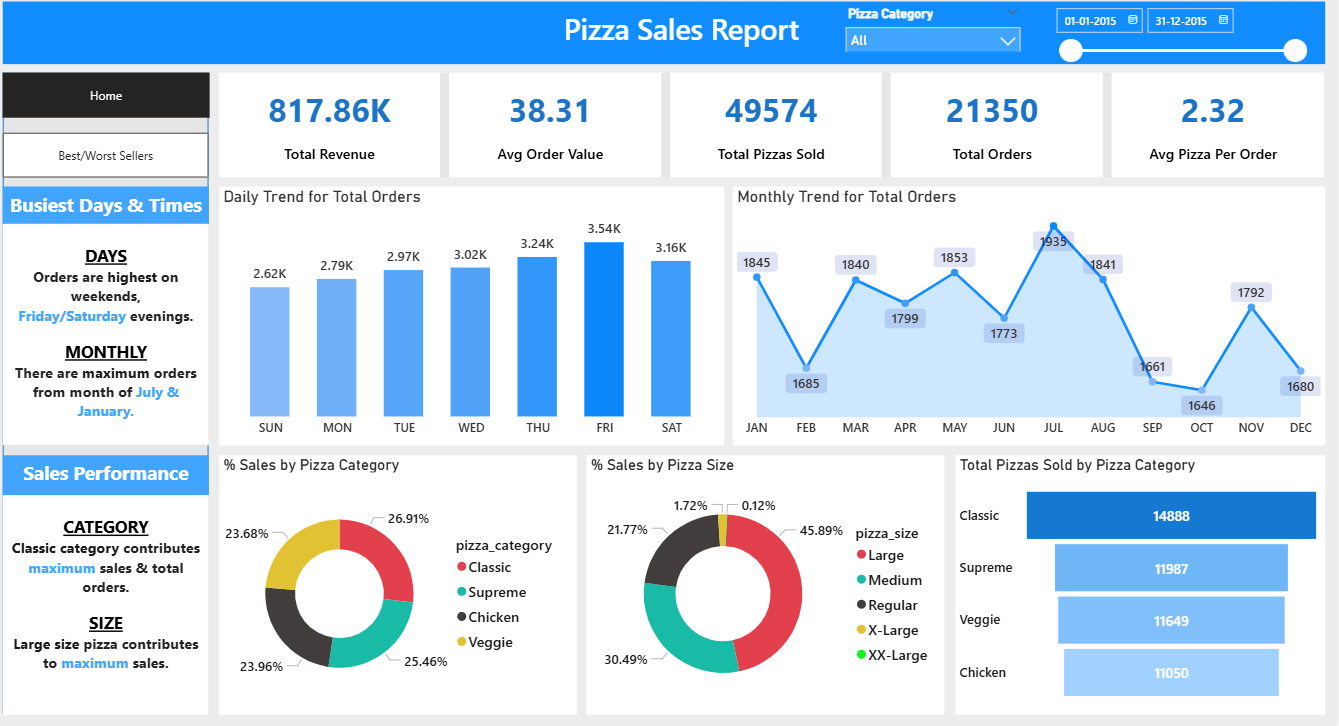

The page's visual inventory and layout, read from the dashboard file:
{"tool":"powerbi","page":{"name":"Home","canvas":[1500,820],"ordinal":0},"visuals":[{"type":"shape","box":[10,8.6,1478.6,70],"z":0},{"type":"cardVisual","fields":{"Data":["pizza_sales.Total Revenue","pizza_sales.Avg Order Value","pizza_sales.Total Pizzas Sold","pizza_sales.Total Orders","pizza_sales.Avg Pizza Per Order"]},"box":[251.4,88.6,1237.1,117.1],"z":1000},{"type":"textbox","box":[611.4,12.9,312.9,55.7],"z":2000},{"type":"columnChart","title":"Daily Trend for Total Orders","fields":{"Category":["pizza_sales.Order Day"],"Y":["pizza_sales.Total Orders"]},"box":[251.5,215.2,564.6,289.3],"z":3000},{"type":"areaChart","title":"Monthly Trend for Total Orders","fields":{"Category":["pizza_sales.Order Month"],"Y":["pizza_sales.Total Orders"]},"box":[825.9,215.2,662.4,289.3],"z":4000},{"type":"donutChart","title":"% Sales by Pizza Size","fields":{"Category":["pizza_sales.pizza_size"],"Y":["pizza_sales.Total Revenue"]},"box":[662.4,515.6,399.7,290.7],"z":5000},{"type":"donutChart","title":"% Sales by Pizza Category","fields":{"Category":["pizza_sales.pizza_category"],"Y":["pizza_sales.Total Revenue"]},"box":[251.5,515.6,399.7,290.7],"z":6000},{"type":"shape","box":[10,88.6,230,717.1],"z":7000},{"type":"funnel","title":"Total Pizzas Sold by Pizza Category","fields":{"Category":["pizza_sales.pizza_category"],"Y":["pizza_sales.Total Pizzas Sold"]},"box":[1074.6,515.6,413.6,290.7],"z":8000},{"type":"textbox","box":[9.8,215.2,230.6,41.9],"z":9000},{"type":"textbox","box":[9.8,257.1,230.6,247.3],"z":10000},{"type":"textbox","box":[9.8,515.6,230.6,44.7],"z":11000},{"type":"textbox","box":[9.8,560.4,230.6,245.9],"z":12000},{"type":"slicer","fields":{"Values":["pizza_sales.pizza_category"]},"box":[941.4,8.6,215.7,55.7],"z":13000},{"type":"pageNavigator","box":[10,88.6,231.4,50],"z":14001},{"type":"pageNavigator","box":[10,155.7,230,50],"z":14002},{"type":"slicer","fields":{"Values":["pizza_sales.order_date"]},"box":[1175.2,5.6,300.4,69.9],"z":14003}]}

Visuals, with their boxes in screenshot pixels (x1, y1, x2, y2), scaled from the page's 1500x820 canvas onto the 1339x726 screenshot:
shape: 9/8/1329/70
cardVisual - pizza_sales.Total Revenue x pizza_sales.Avg Order Value: 224/78/1329/182
textbox: 546/11/825/61
"Daily Trend for Total Orders" columnChart: 225/191/729/447
"Monthly Trend for Total Orders" areaChart: 737/191/1329/447
"% Sales by Pizza Size" donutChart: 591/456/948/714
"% Sales by Pizza Category" donutChart: 225/456/581/714
shape: 9/78/214/713
"Total Pizzas Sold by Pizza Category" funnel: 959/456/1328/714
textbox: 9/191/215/228
textbox: 9/228/215/447
textbox: 9/456/215/496
textbox: 9/496/215/714
slicer - pizza_sales.pizza_category: 840/8/1033/57
pageNavigator: 9/78/215/123
pageNavigator: 9/138/214/182
slicer - pizza_sales.order_date: 1049/5/1317/67
